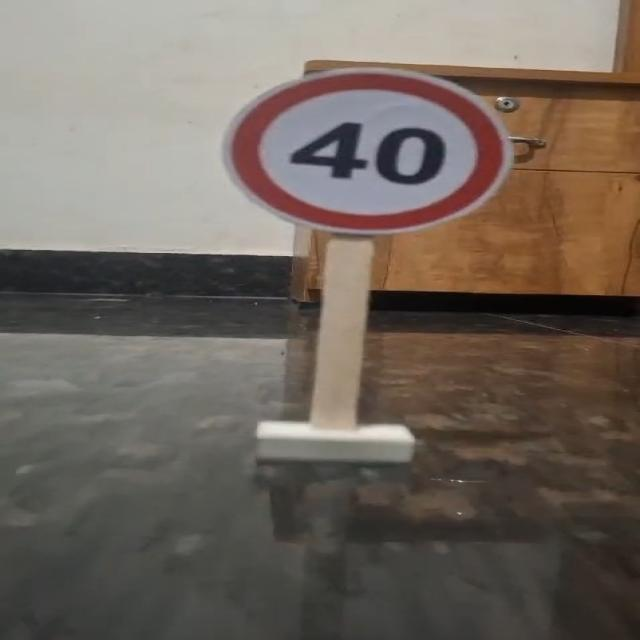Speed40: (219, 64, 517, 238)
